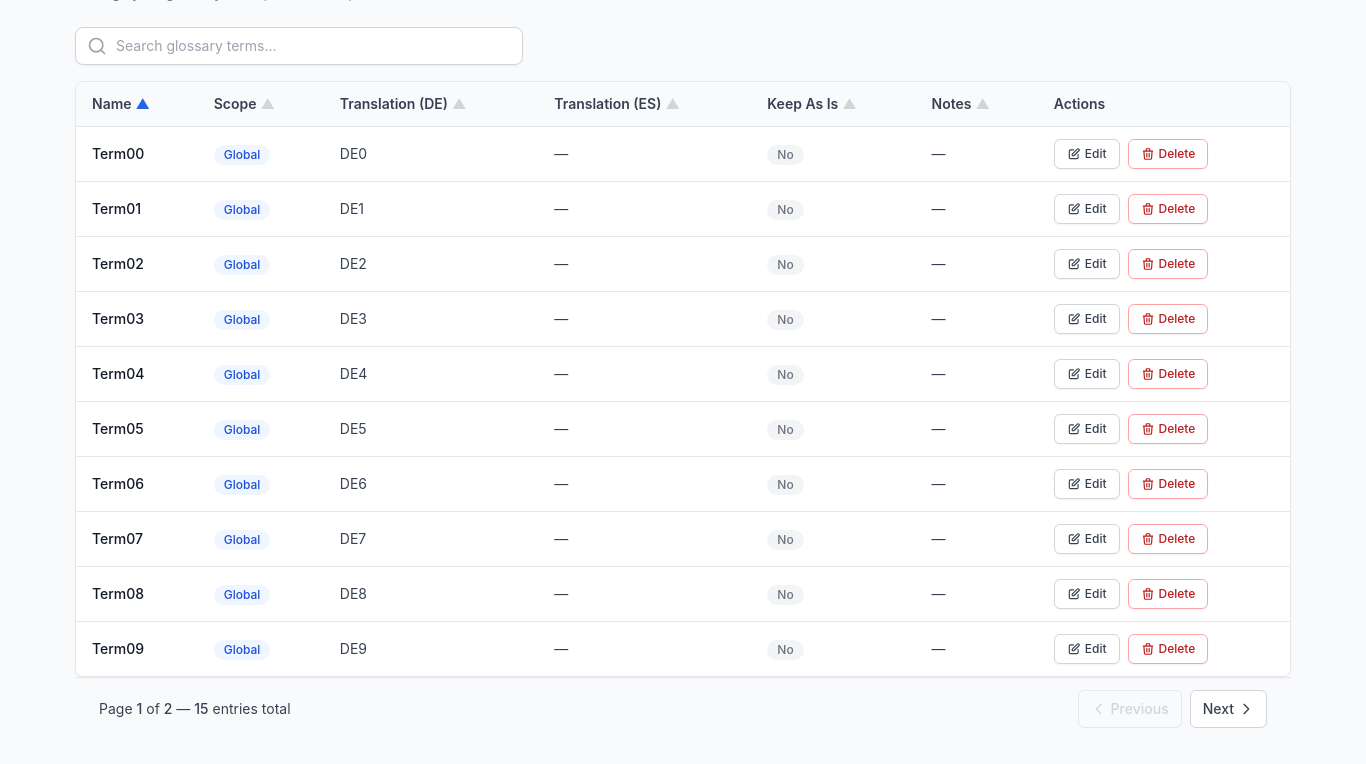
Test case: App › pagination › navigates back to the previous page
(page scrolled)
Expected: the text "Term00" is shown, [76,126,198,182]
Click the button with aria-label "next page".
click(1228, 709)  # box [1190,690,1267,728]
(page scrolled)
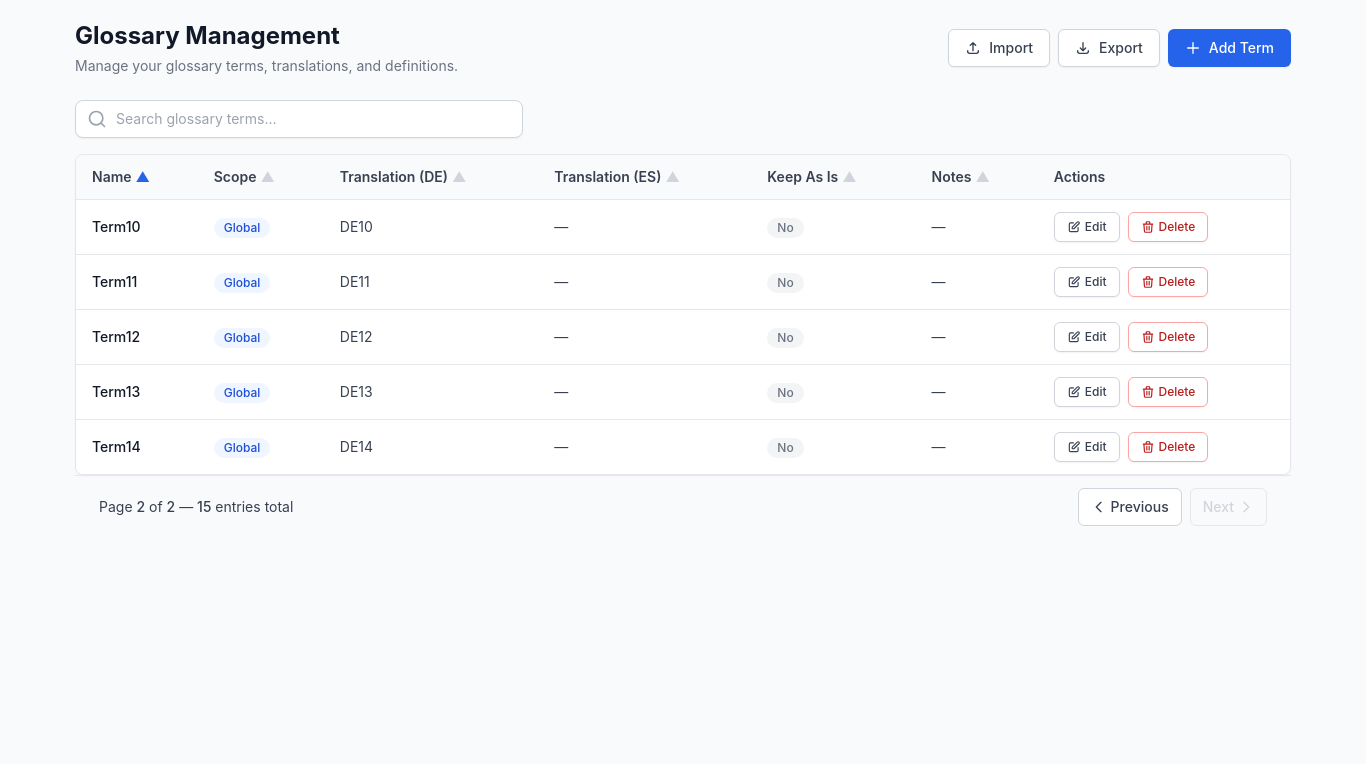
Result: the text "Term10" is shown at [76,200,198,254]
Click the button with aria-label "previous page".
click(1130, 507)  # box [1078,488,1182,526]
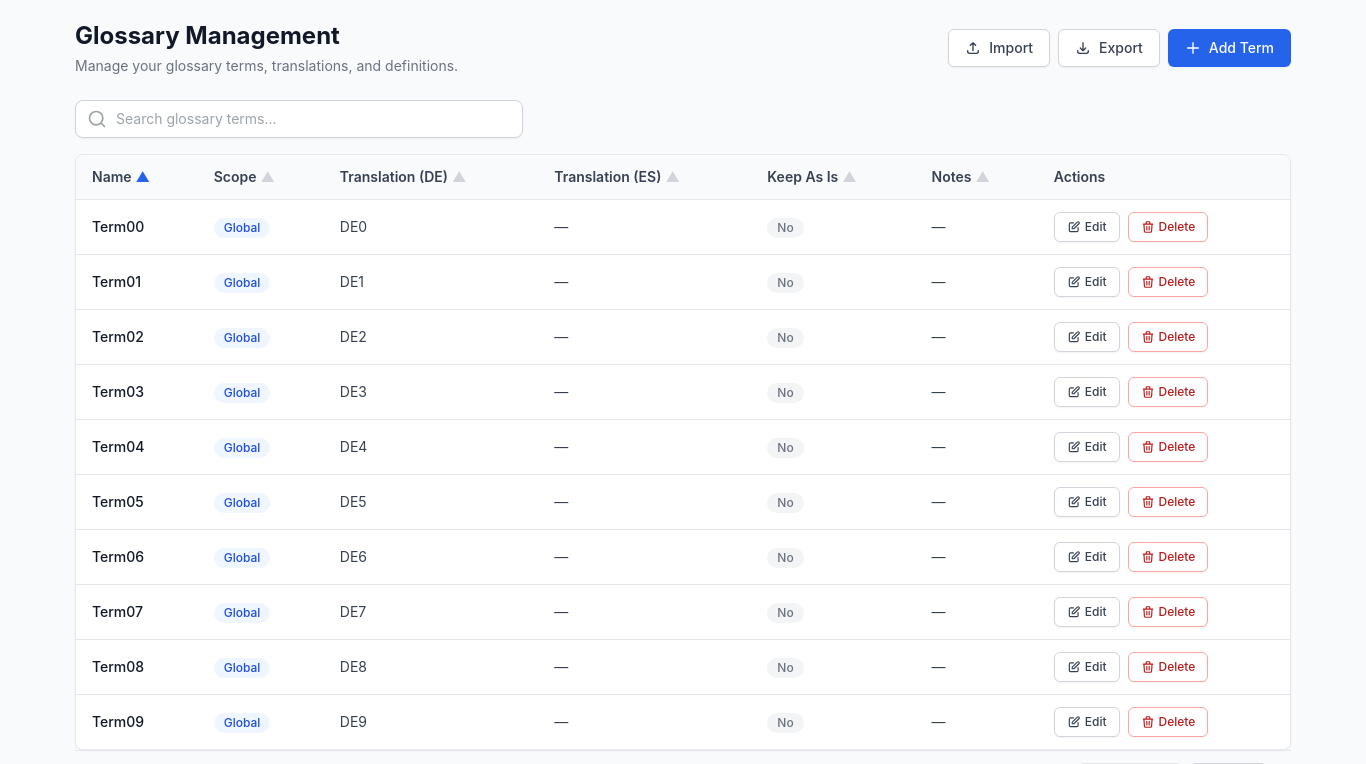
Result: the text "Term00" is shown at [76,200,198,254]
